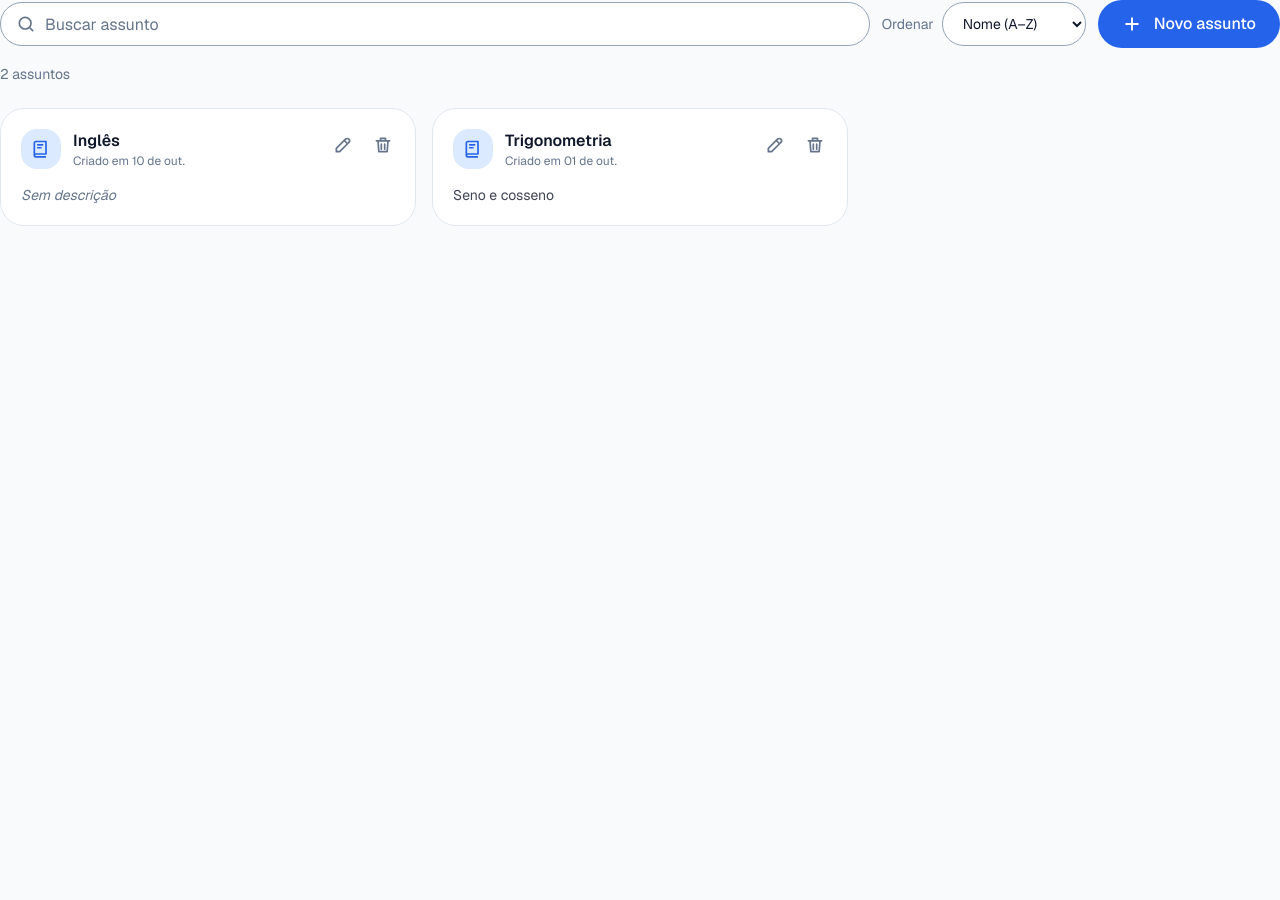
SubjectBoard › creates a subject and confirms it
Click the button "Novo assunto" at (1189,24), box [1098,0,1279,48]
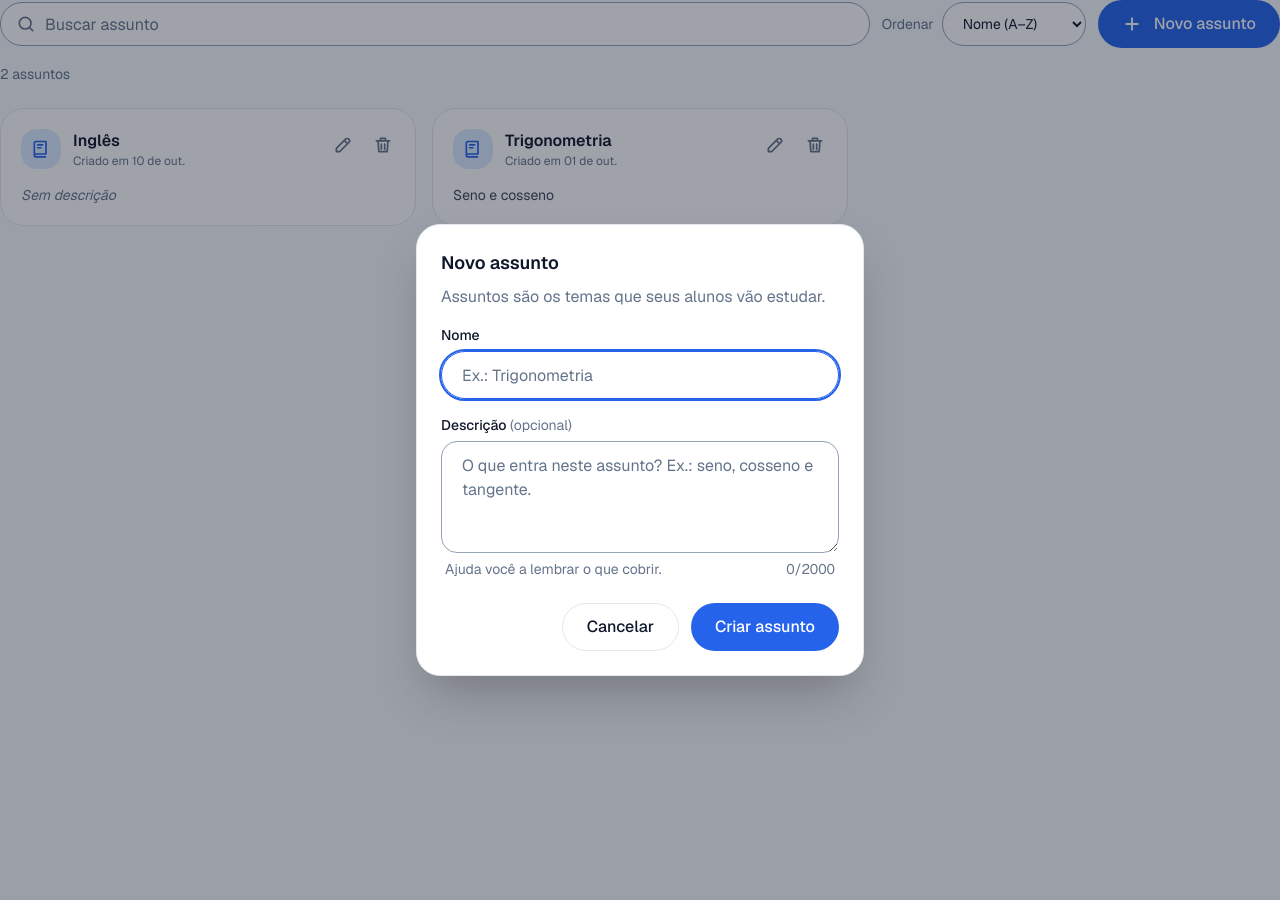
Type "Redação" into the field labelled "Nome" at (640,375), box [441,351,839,399]
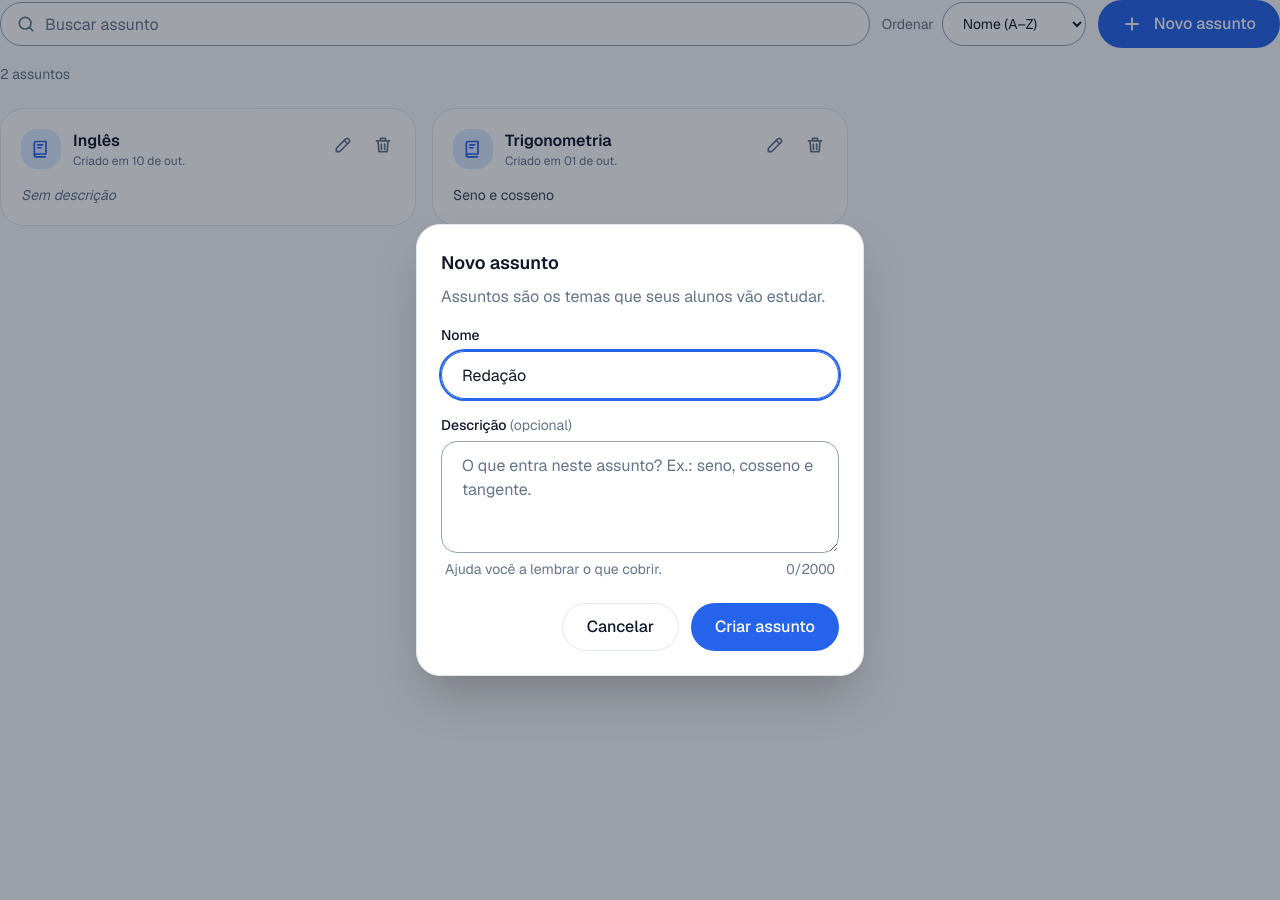
Type "Dissertação" into the text box labelled "Descrição (opcional)" at (640,497), box [441,441,839,553]
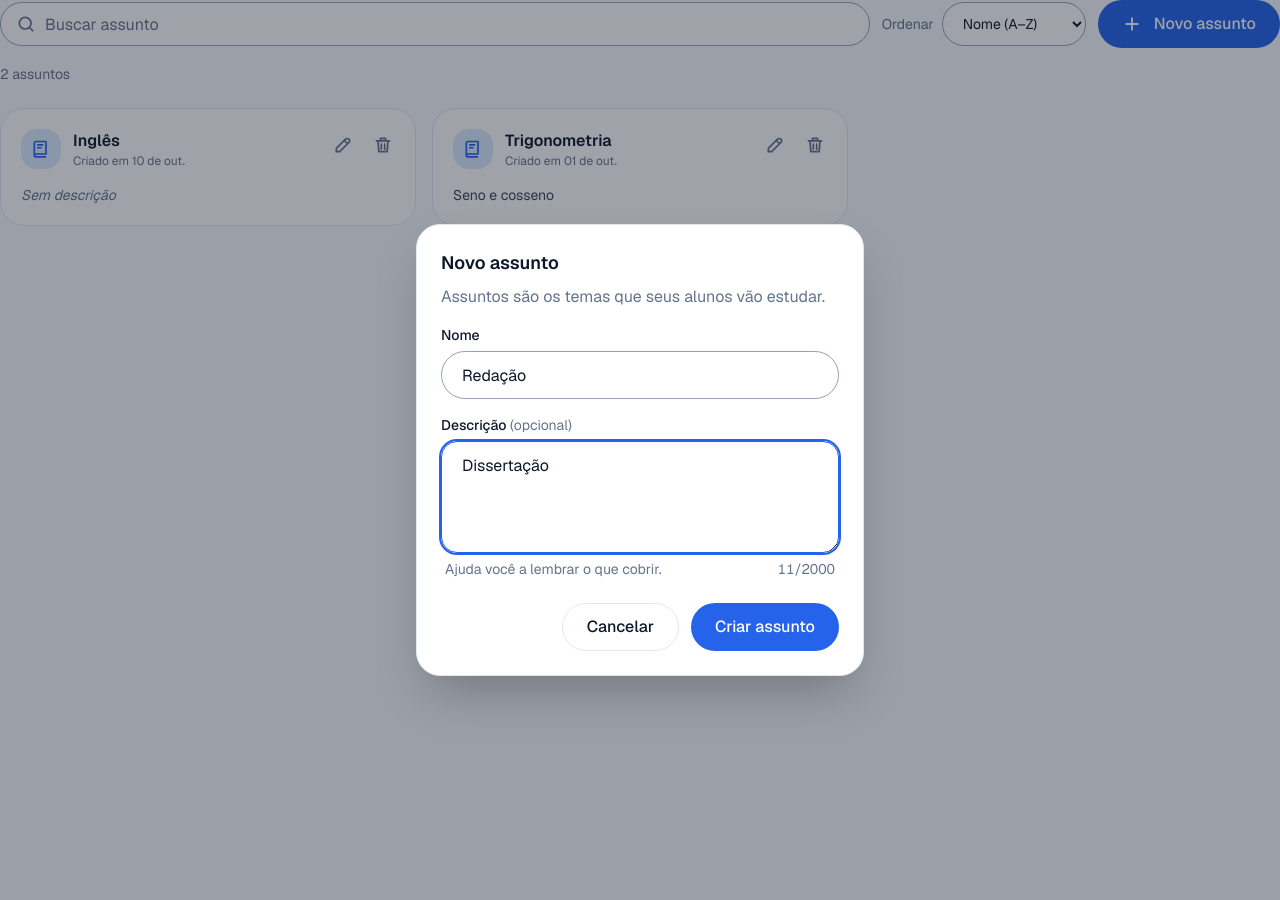
Click the button "Criar assunto" at (765,627), box [691,603,839,651]
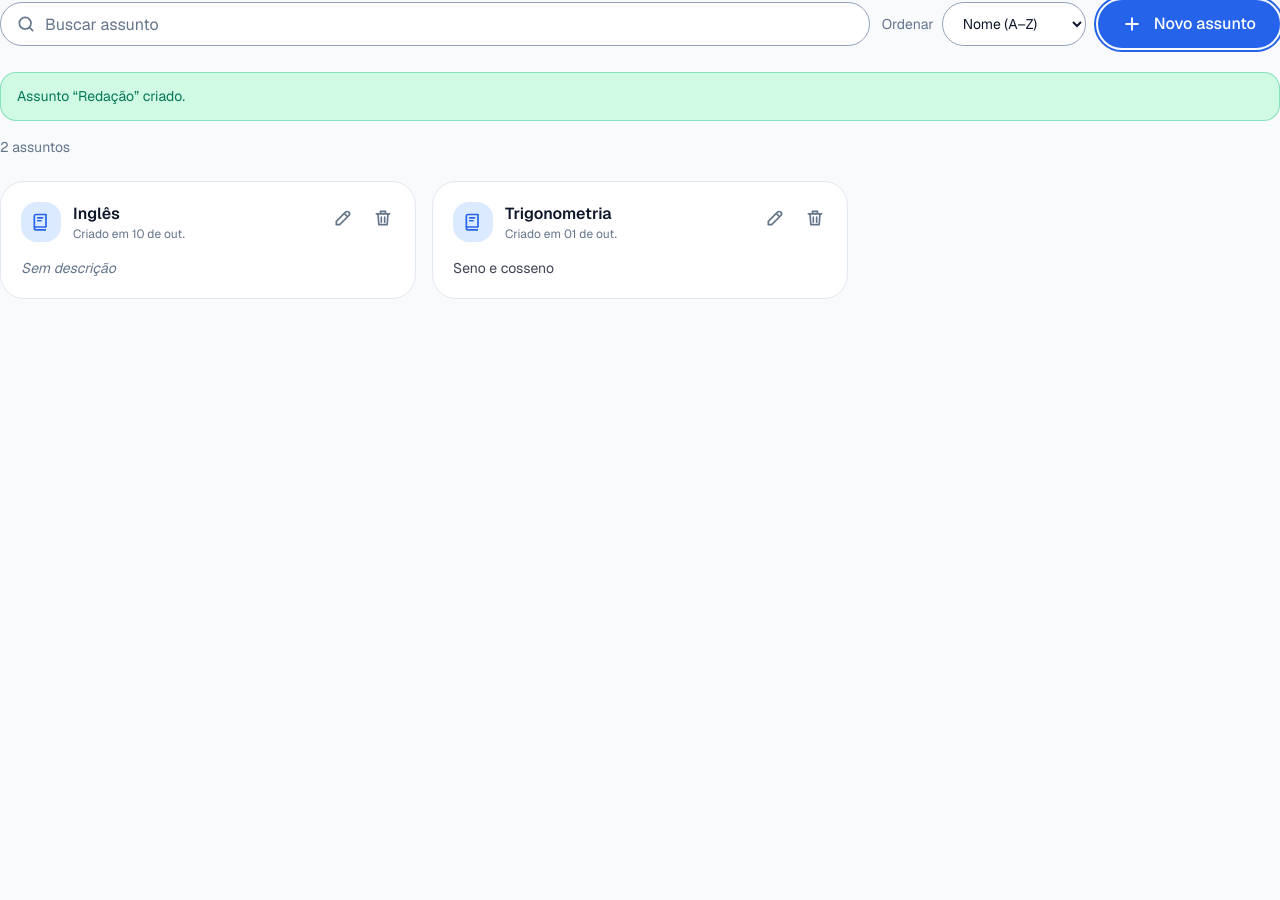
Result: the dialog is gone
Result: the message reads "Assunto “Redação” criado." at [17,87,185,105]
